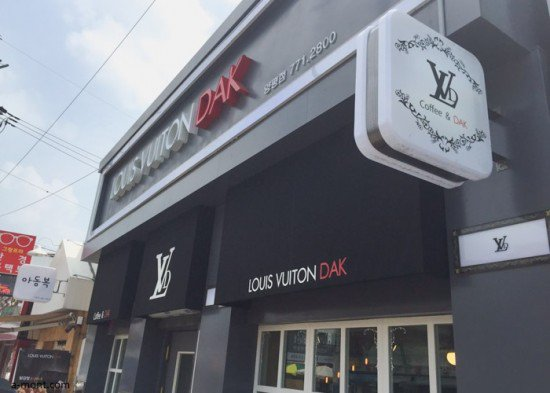LOUIS-VUITTON: (150, 248, 174, 302)
